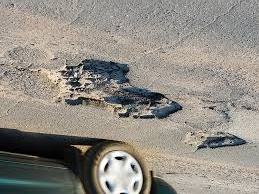pothole: (48, 61, 181, 123), (184, 128, 248, 154)
